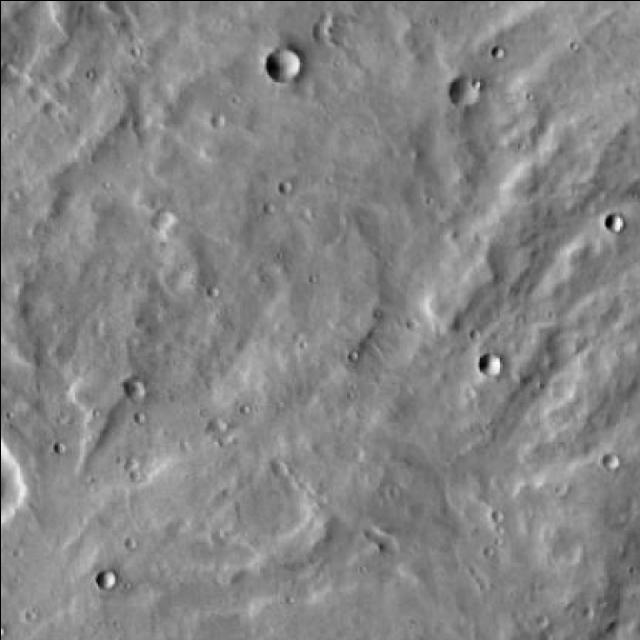crater: (267, 44, 304, 80), (453, 79, 478, 103), (478, 354, 500, 376), (604, 212, 624, 230), (125, 380, 144, 398), (604, 448, 622, 466), (206, 415, 223, 433), (268, 460, 286, 477), (95, 572, 112, 588)
